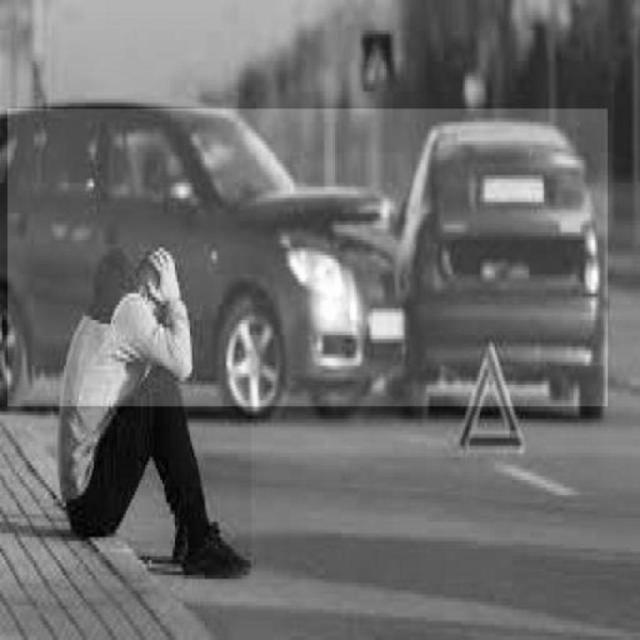accident: (7, 109, 608, 406)
person: (62, 254, 252, 574)
